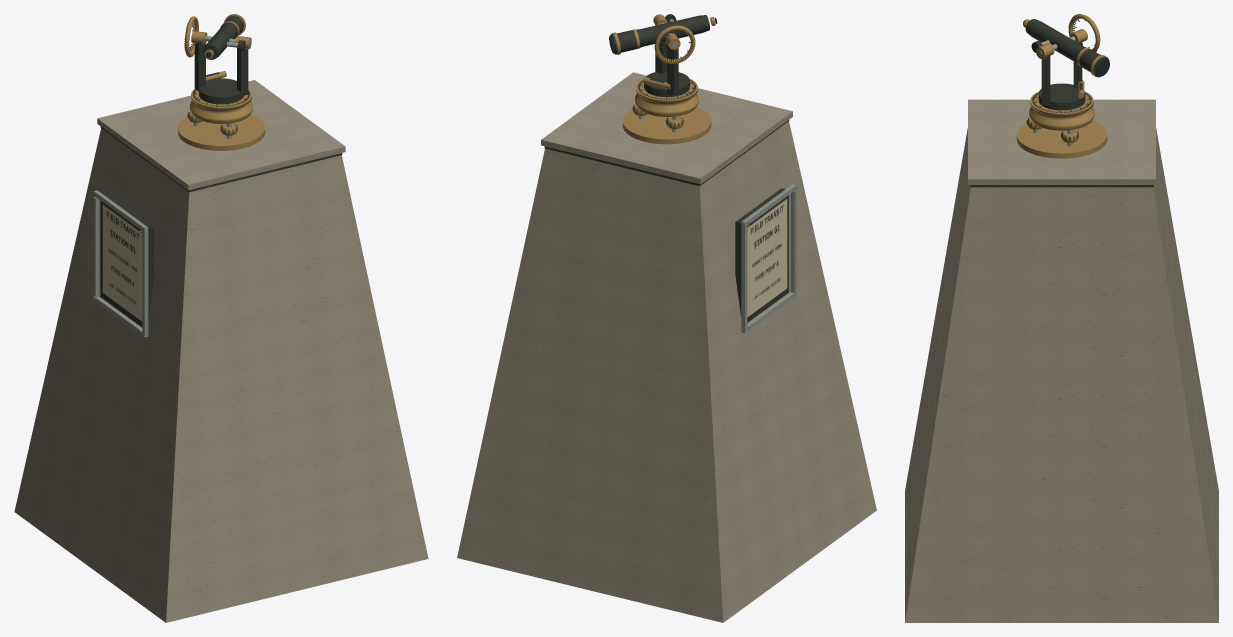
File: SM_FieldKit_Transit.fbx
3 views of the same model, side by side, from view 1: azimuth 30°, elevation 25°; view 2: azimuth 150°, elevation 25°; view 3: azimuth 270°, elevation 25° (orthographic). The views are drawn at different scales.
Parts seen in each view (by area): view 1: SM_FieldKit_Transit; view 2: SM_FieldKit_Transit; view 3: SM_FieldKit_Transit.
Boxes of the visible parts, bbox=[...] form: SM_FieldKit_Transit: bbox=[14, 14, 428, 622]; SM_FieldKit_Transit: bbox=[457, 14, 876, 622]; SM_FieldKit_Transit: bbox=[905, 14, 1218, 622].
Size of the model in its own units: 0.9 by 0.9 by 1.68.
